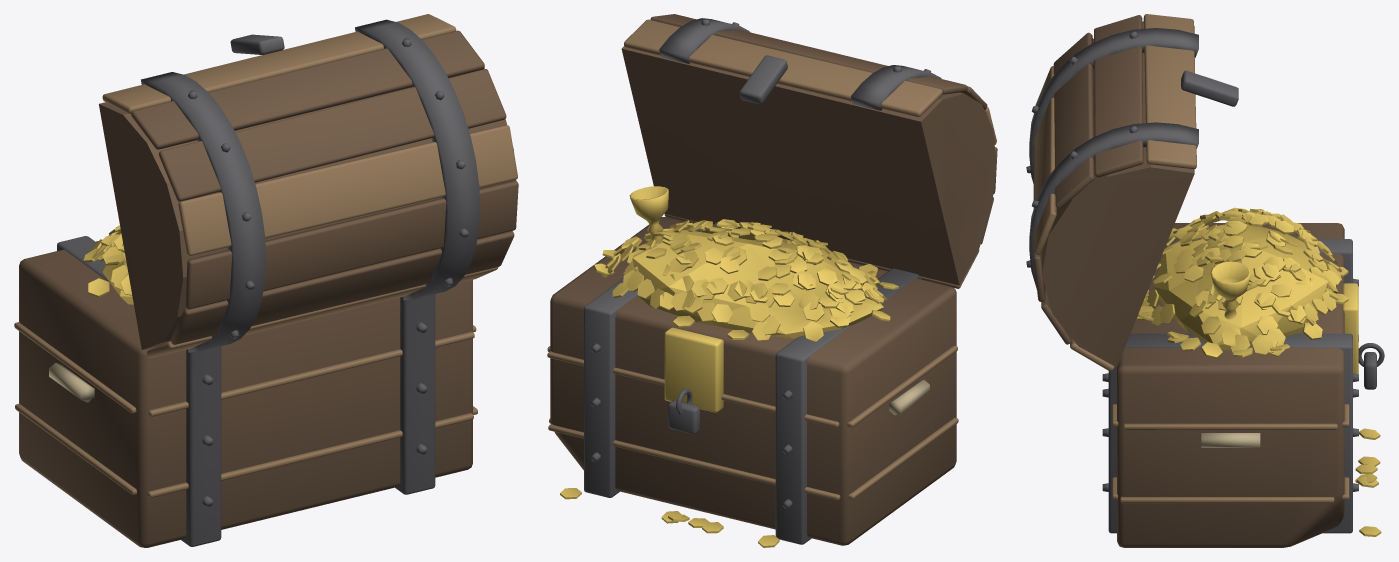
The model's file is chest_open.glb.
3 renders of one model, left to right at view 1: azimuth 30°, elevation 25°; view 2: azimuth 150°, elevation 25°; view 3: azimuth 270°, elevation 25°, orthographic. The views are drawn at different scales.
Visible parts, largest first — view 1: chest_open; view 2: chest_open; view 3: chest_open.
Boxes of the visible parts, x1,y1,x2,y2 form: chest_open: (14,14,518,547); chest_open: (547,14,997,547); chest_open: (1026,14,1384,547).
Size of the model in its own units: 1.03 by 1.22 by 0.9745.
